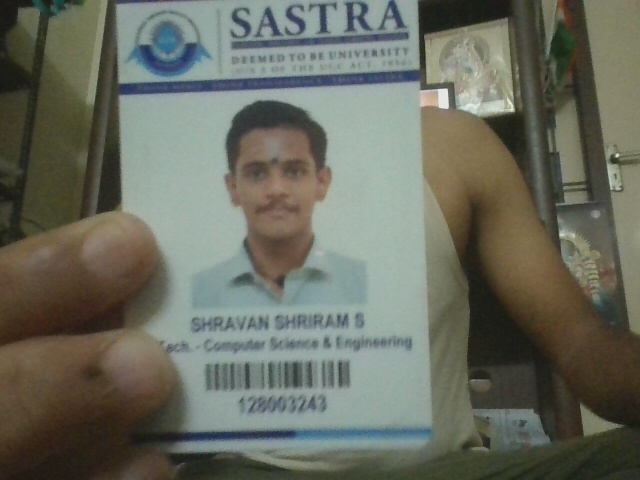fake: (221, 128, 330, 237)
